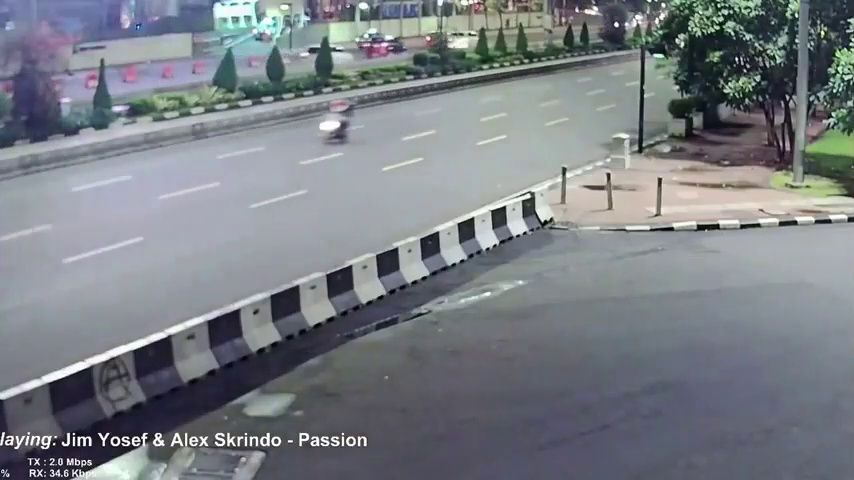motorbike: (322, 100, 353, 145)
